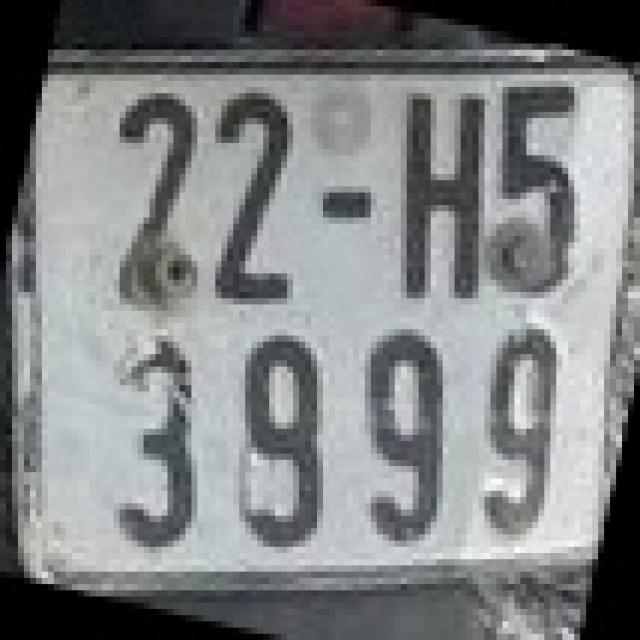2: (108, 87, 203, 311), (209, 87, 299, 304)
3: (108, 335, 203, 547)
5: (497, 81, 580, 292)
9: (233, 329, 329, 547), (359, 323, 448, 547), (473, 323, 562, 541)
H: (395, 87, 484, 304)
